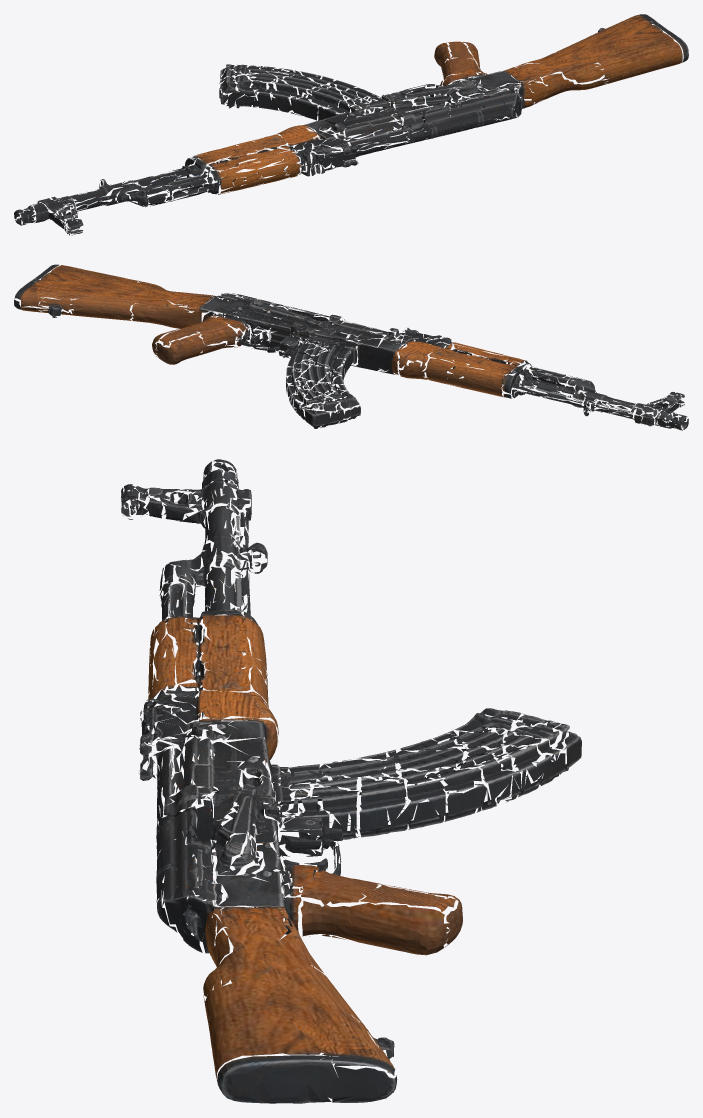
Rendered from gun_ak.glb.
The picture shows the model from 3 angles, top to bottom: view 1: azimuth 30°, elevation 25°; view 2: azimuth 150°, elevation 25°; view 3: azimuth 270°, elevation 25°; orthographic projection. The views are drawn at different scales.
Size of the model in its own units: 1.9 by 0.1113 by 0.6039.
1 material, 1 textured.
